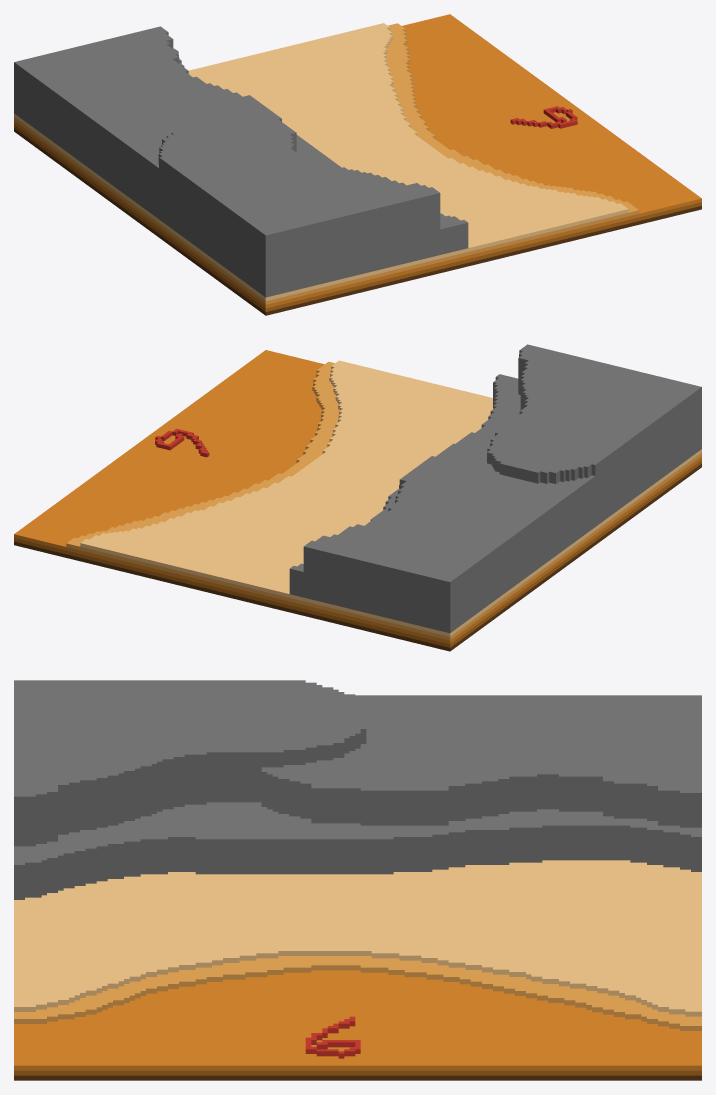
The model's file is Terrain 6.obj.
The picture shows the model from 3 angles, top to bottom: view 1: azimuth 30°, elevation 25°; view 2: azimuth 150°, elevation 25°; view 3: azimuth 270°, elevation 25°; orthographic projection. The views are drawn at different scales.
Parts seen in each view (by area): view 1: Terrain 6; view 2: Terrain 6; view 3: Terrain 6.
Boxes of the visible parts, x1,y1,x2,y2 form: Terrain 6: [14, 14, 701, 315]; Terrain 6: [14, 344, 701, 651]; Terrain 6: [14, 680, 701, 1080].
Bounding box in the file's own units: 125 × 22 × 125.
1 material, 1 textured.
